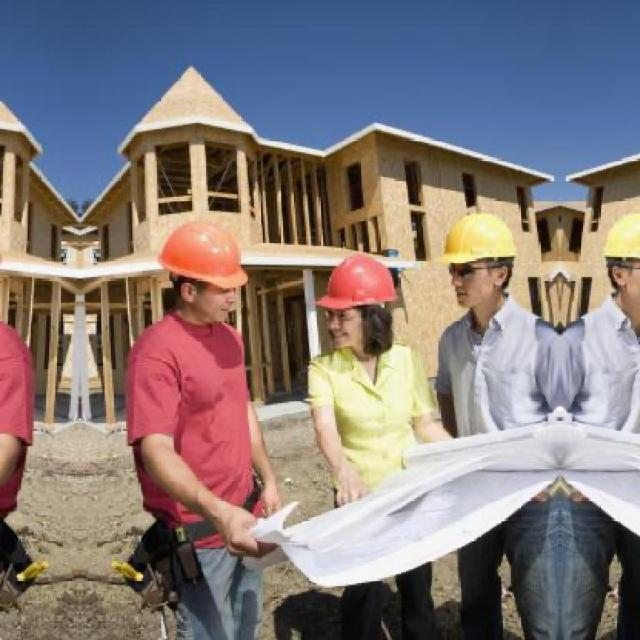helmet: (310, 252, 402, 354), (157, 217, 243, 320), (431, 216, 517, 310), (600, 214, 638, 309)
